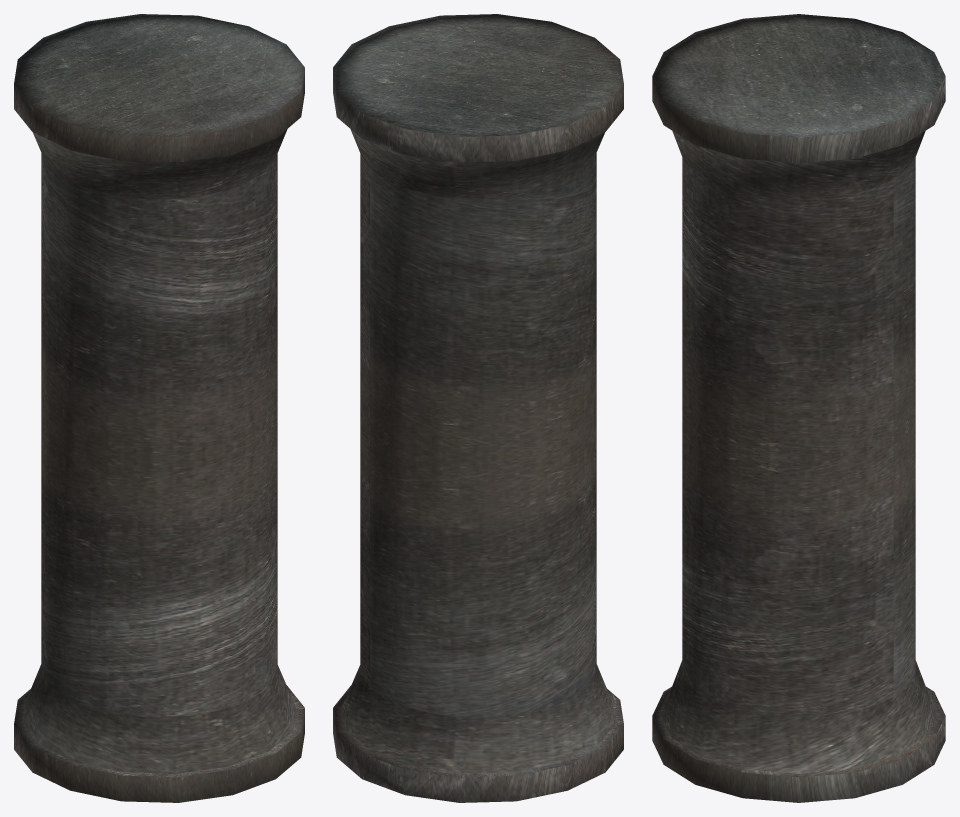
The model's file is Tuberia_recta.fbx.
3 renders of one model, left to right at view 1: azimuth 30°, elevation 25°; view 2: azimuth 150°, elevation 25°; view 3: azimuth 270°, elevation 25°, orthographic.
Parts seen in each view (by area): view 1: Tuberia Plana; view 2: Tuberia Plana; view 3: Tuberia Plana.
Boxes of the visible parts, box(x1,y1,x2,y2) form: Tuberia Plana: box(14, 14, 304, 802); Tuberia Plana: box(333, 14, 623, 802); Tuberia Plana: box(652, 14, 945, 802).
Size of the model in its own units: 244 by 611 by 244.
